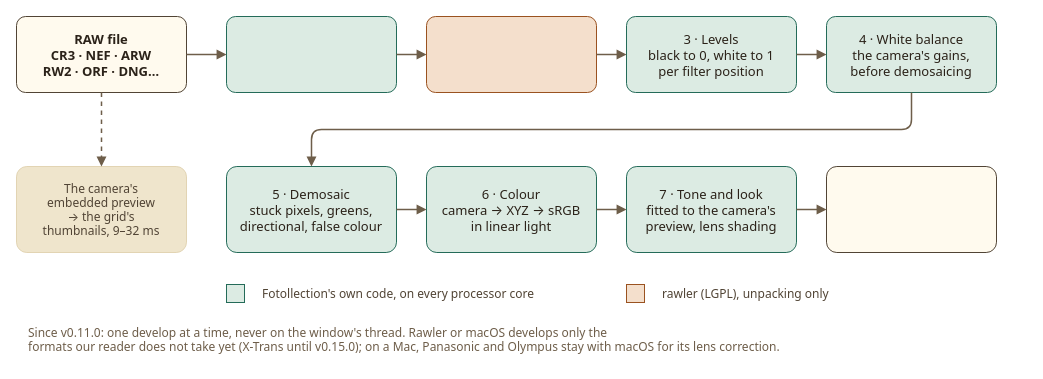
Some shapes in this 1043 by 379 pixel diagram are drawn without their labels. The centre of each missing label's shape, as x and y in pixels:
"1 · Recognise from the first bytes, not the name" goes at (311,54).
"2 · Read the sensor DNG: our own reader others: rawler unpacks" goes at (511,54).
"Print crop · stamp · frame JPEG 4:4:4, quality 95" goes at (911,209).
